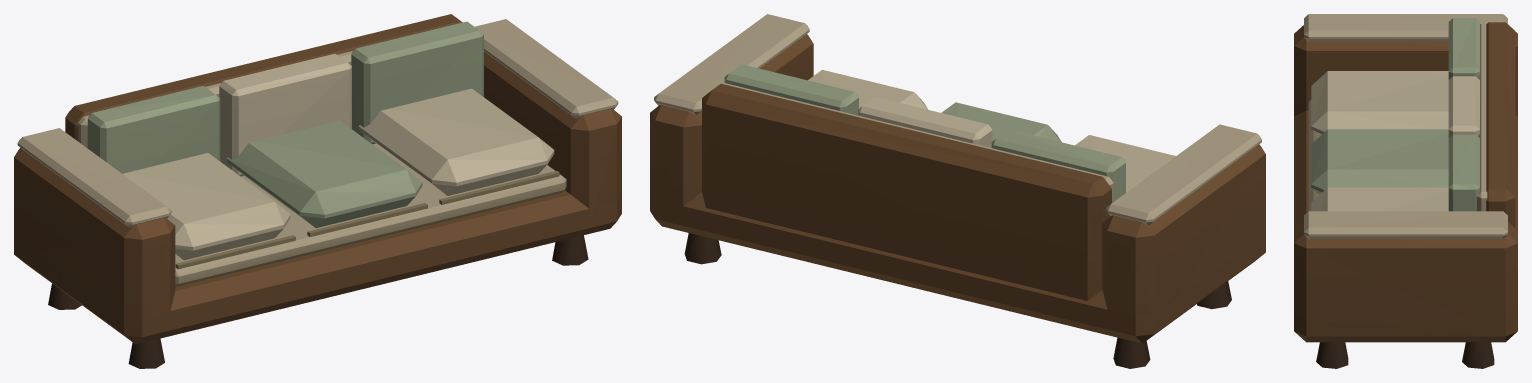
Rendered from sofa-3seat.glb.
3 renders of one model, left to right at view 1: azimuth 30°, elevation 25°; view 2: azimuth 150°, elevation 25°; view 3: azimuth 270°, elevation 25°, orthographic. The views are drawn at different scales.
Parts seen in each view (by area): view 1: sofa_3seat; view 2: sofa_3seat; view 3: sofa_3seat.
Boxes of the visible parts, bbox=[...] form: sofa_3seat: bbox=[14, 14, 621, 368]; sofa_3seat: bbox=[650, 14, 1265, 368]; sofa_3seat: bbox=[1294, 14, 1517, 368].
Size of the model in its own units: 2.14 by 0.76 by 0.92.
